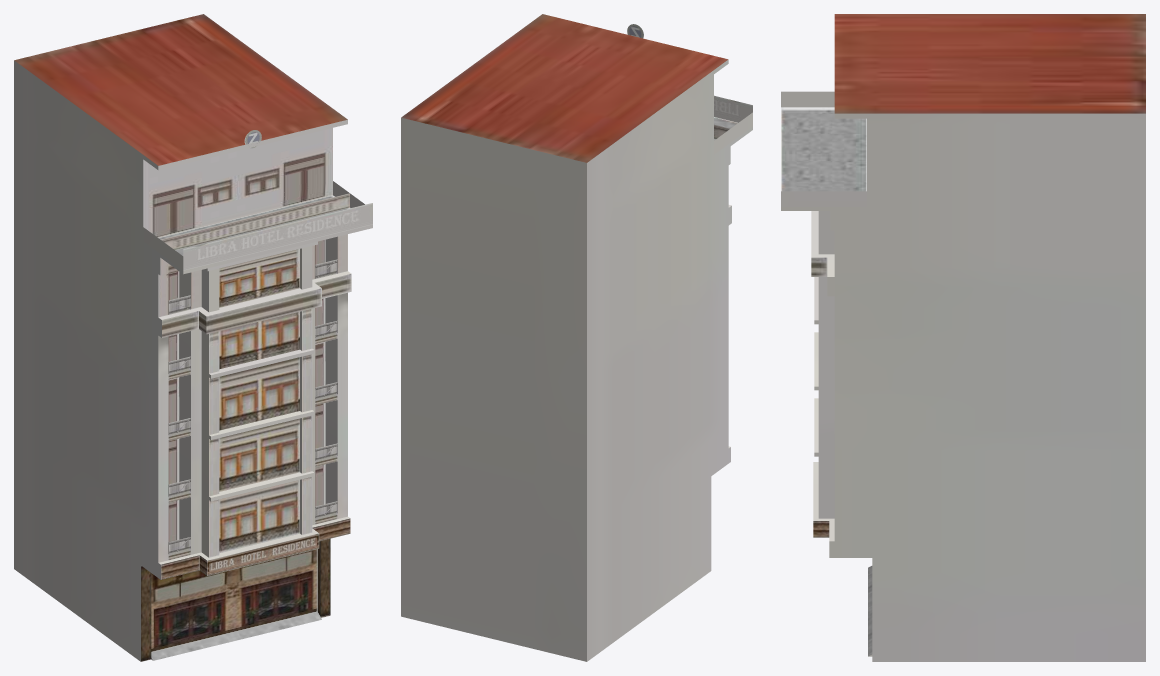
3 views of the same model, side by side, from view 1: azimuth 30°, elevation 25°; view 2: azimuth 150°, elevation 25°; view 3: azimuth 270°, elevation 25° (orthographic). The views are drawn at different scales.
Parts seen in each view (by area): view 1: HN063___Libra_Hotel_Residence; view 2: HN063___Libra_Hotel_Residence; view 3: HN063___Libra_Hotel_Residence.
Boxes of the visible parts, x1,y1,x2,y2 form: HN063___Libra_Hotel_Residence: (14, 14, 372, 661); HN063___Libra_Hotel_Residence: (401, 14, 752, 661); HN063___Libra_Hotel_Residence: (781, 14, 1145, 661).
Size of the model in its own units: 11 by 28.9 by 17.
Materials: 1 (1 with a texture image).
